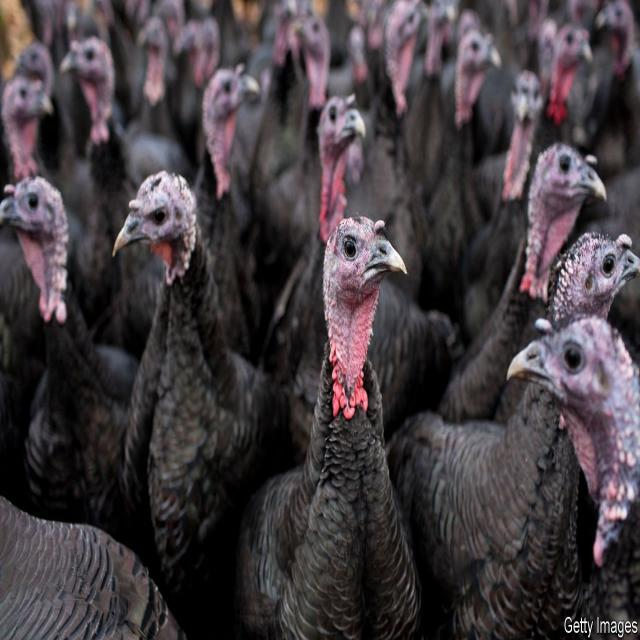Turkey: (398, 212, 636, 610), (95, 160, 277, 560), (283, 198, 431, 632), (504, 306, 640, 578), (2, 141, 93, 413), (514, 134, 616, 280), (186, 68, 271, 217), (298, 82, 379, 238)
